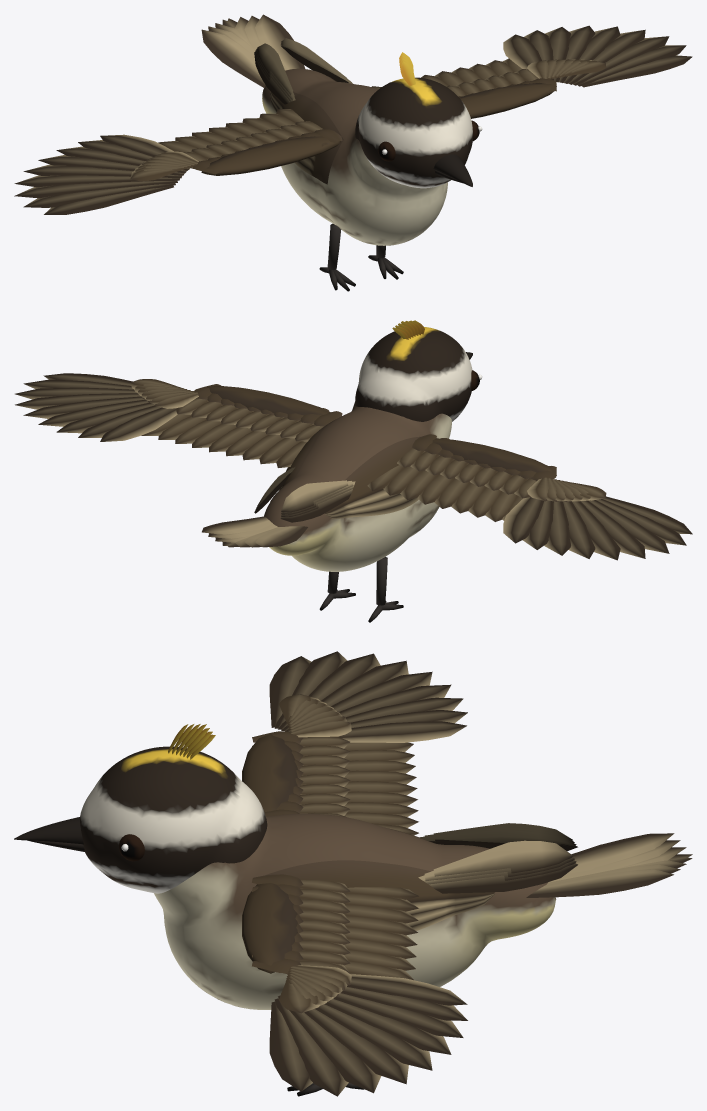
File: pirata.glb
3 views of the same model, one above another, from view 1: azimuth 30°, elevation 25°; view 2: azimuth 150°, elevation 25°; view 3: azimuth 270°, elevation 25° (orthographic). The views are drawn at different scales.
Parts seen in each view (by area): view 1: corpo, cabeca_malha, asa_E_mao, asa_D_mao, asa_E_braco, asa_D_braco, cauda_penas, asa_fechada_E, pernas, asa_fechada_D, bico_sup; view 2: corpo, asa_E_mao, asa_E_braco, asa_D_braco, cabeca_malha, asa_D_mao, asa_fechada_E, cauda_penas, pernas, asa_fechada_D; view 3: corpo, cabeca_malha, asa_D_mao, asa_D_braco, asa_E_mao, asa_E_braco, asa_fechada_D, cauda_penas, asa_fechada_E, bico_sup, crista_penas.
Boxes of the visible parts, x1,y1,x2,y2 form: corpo: (262,68,447,245); cabeca_malha: (355,77,472,188); asa_E_mao: (14,134,198,214); asa_D_mao: (503,25,692,87); asa_E_braco: (158,109,342,175); asa_D_braco: (371,58,556,118); cauda_penas: (201,14,305,87); asa_fechada_E: (254,43,343,184); pernas: (319,223,403,291); asa_fechada_D: (281,38,352,83); bico_sup: (433,154,472,186); corpo: (264,401,451,571); asa_E_mao: (503,477,692,560); asa_E_braco: (367,434,556,521); asa_D_braco: (141,384,342,467); cabeca_malha: (355,327,472,421); asa_D_mao: (15,373,198,441); asa_fechada_E: (280,436,420,522); cauda_penas: (202,516,307,547); pernas: (319,557,403,622); asa_fechada_D: (254,419,335,513); corpo: (154,813,556,1009); cabeca_malha: (79,746,267,893); asa_D_mao: (269,965,467,1096); asa_D_braco: (242,874,418,980); asa_E_mao: (269,651,467,742); asa_E_braco: (242,731,418,835); asa_fechada_D: (266,840,577,930); cauda_penas: (526,833,692,897); asa_fechada_E: (388,823,577,851); bico_sup: (14,817,83,844); crista_penas: (168,724,215,759).
Size of the model in its own units: 1.15 by 0.4207 by 0.7378.
